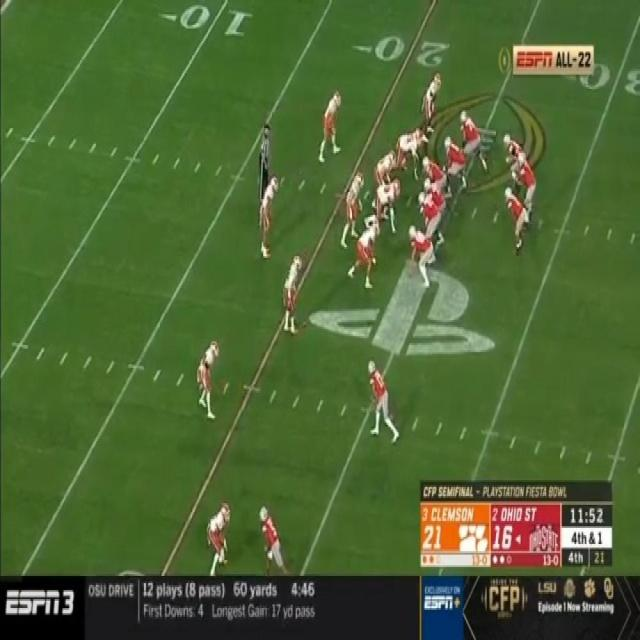center: (422, 156, 446, 201)
db: (203, 500, 234, 574), (194, 340, 219, 420), (317, 92, 340, 154), (261, 180, 280, 254), (285, 252, 300, 330), (423, 73, 441, 123)
lb: (346, 176, 358, 235), (377, 146, 396, 172)
qb: (518, 151, 538, 201)
skill: (366, 359, 399, 444), (259, 504, 288, 574), (500, 187, 526, 254), (503, 130, 516, 158)
